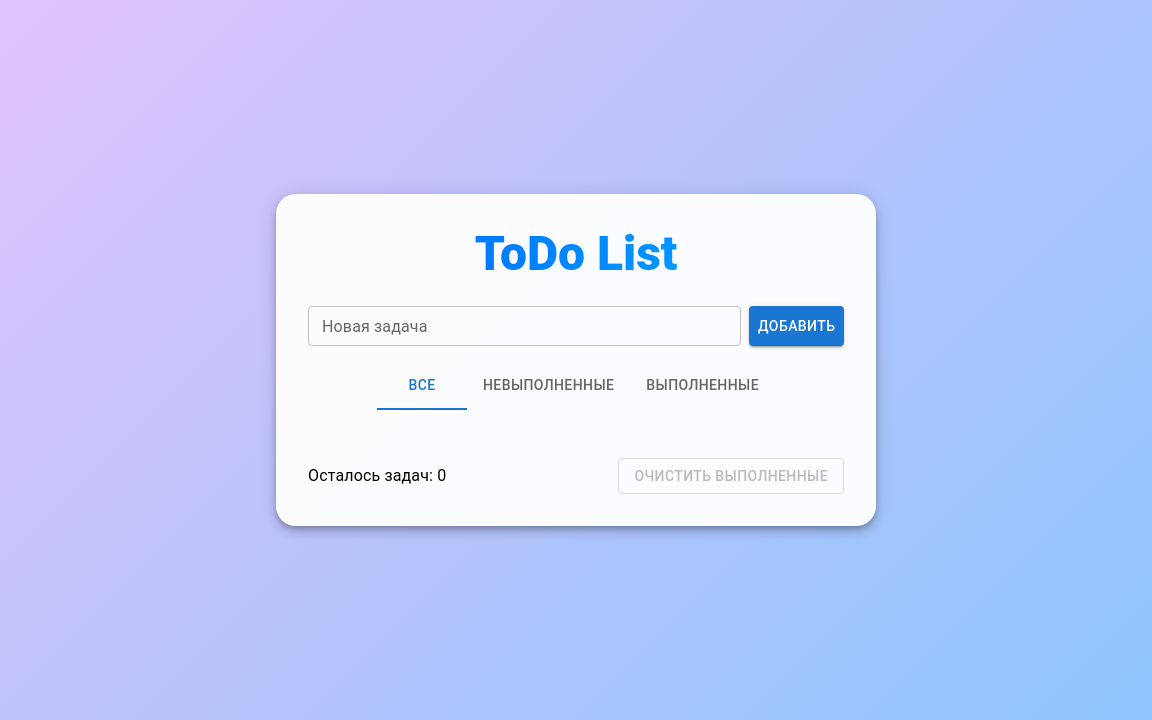
Test: ToDo App functionality › adds a new todo
The width and height of the screenshot is (1152, 720).
Type "Test task" into the field labelled "Новая задача" at [525, 326], box [308,306,742,346]
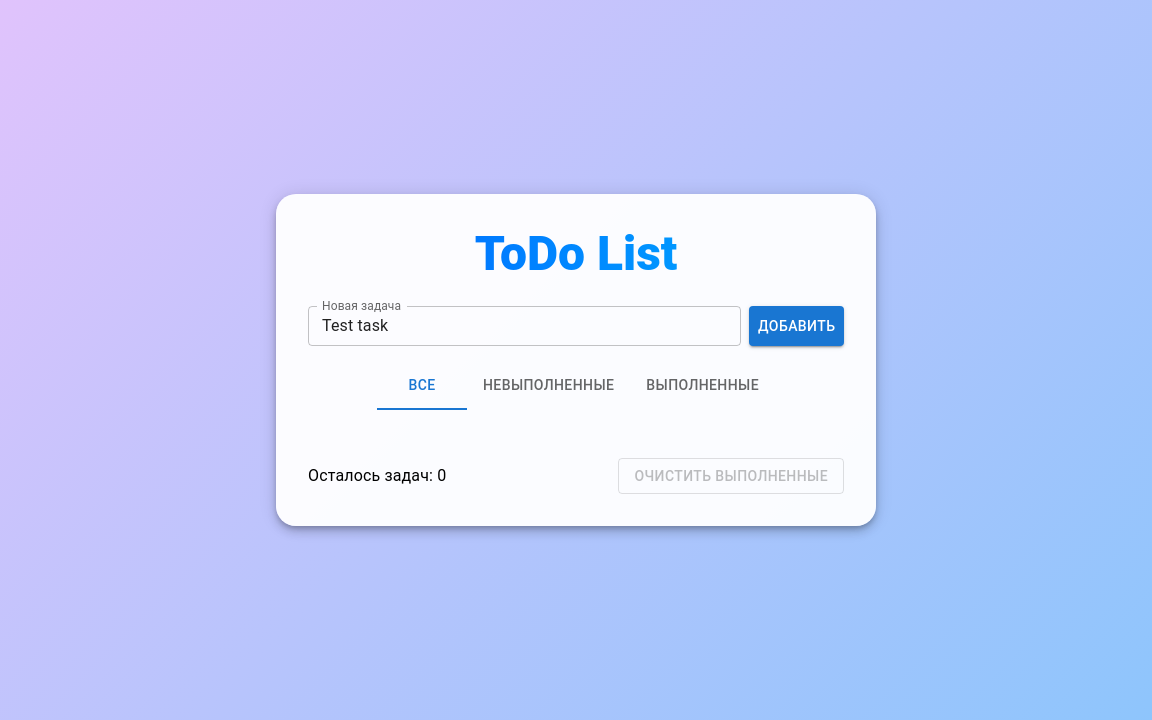
Click the button "Добавить" at [797, 326], box [750,306,844,346]
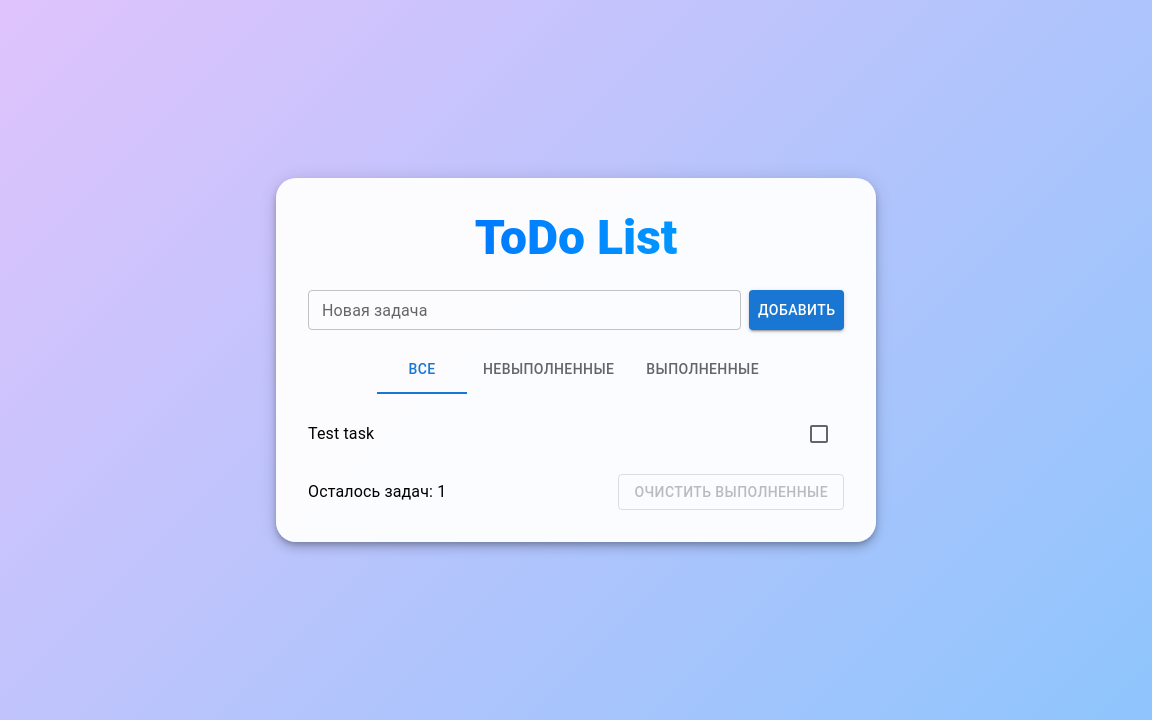
Expected: the text "Test task" is shown, [308,424,374,443]
